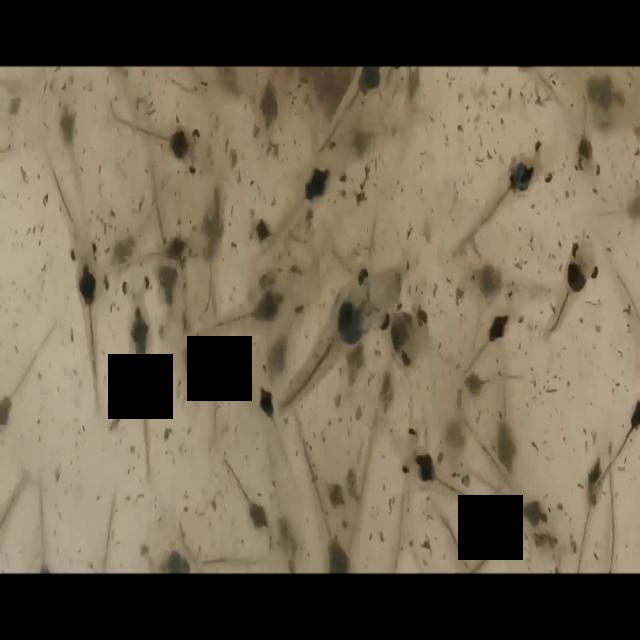shrimp3: (275, 244, 390, 425), (439, 127, 562, 282), (191, 257, 308, 349), (536, 221, 608, 355), (66, 213, 107, 438), (101, 103, 211, 184), (451, 281, 529, 392), (118, 272, 156, 497), (219, 449, 275, 559)
